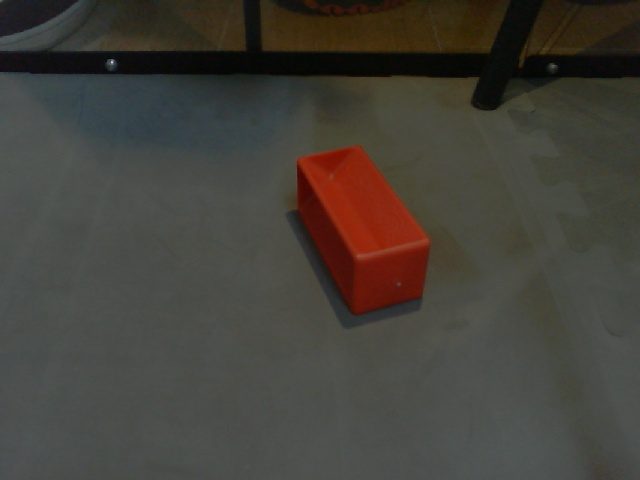RedSample: (294, 141, 431, 315)
